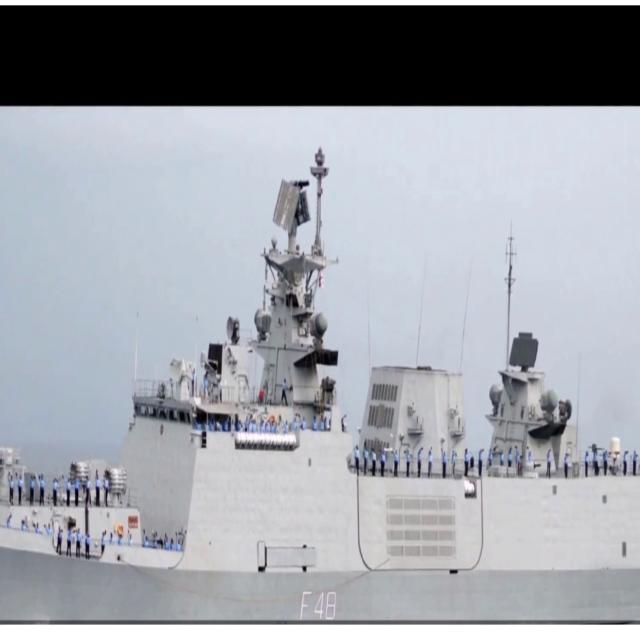OCR: (285, 585, 338, 622)
